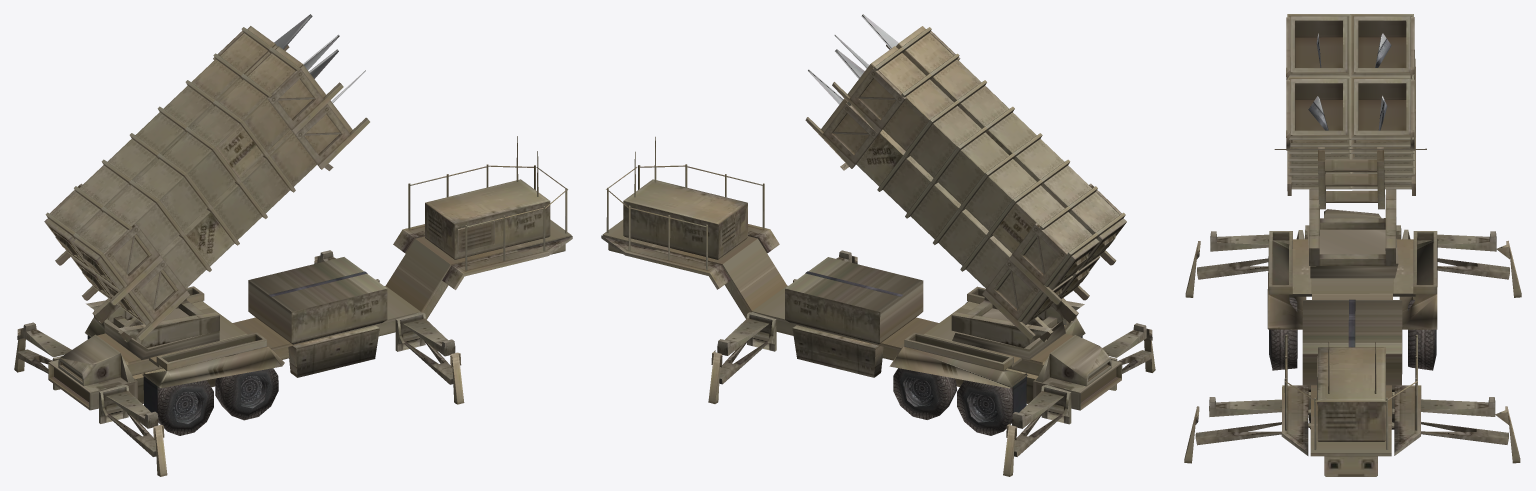
The model's file is patriot.lod0.glb.
3 renders of one model, left to right at view 1: azimuth 30°, elevation 25°; view 2: azimuth 150°, elevation 25°; view 3: azimuth 270°, elevation 25°, orthographic. The views are drawn at different scales.
Parts seen in each view (by area): view 1: Object_3, Object_2; view 2: Object_3, Object_2; view 3: Object_3, Object_2.
Part boxes in pixels (left/top/right/bottom): Object_3: left=14, top=14, right=572, bottom=476; Object_2: left=158, top=368, right=278, bottom=435; Object_3: left=601, top=14, right=1155, bottom=476; Object_2: left=893, top=368, right=1012, bottom=435; Object_3: left=1184, top=14, right=1521, bottom=476; Object_2: left=1269, top=297, right=1436, bottom=370.
Size of the model in its own units: 10.5 by 7.14 by 5.52.
2 materials, 2 textured.
